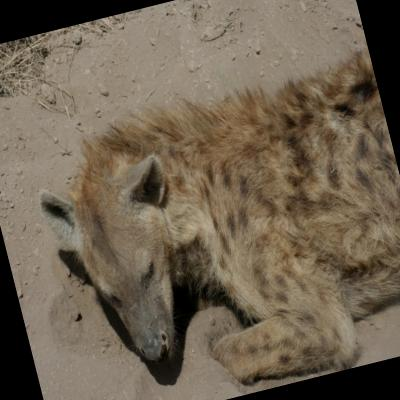hyenas: (0, 12, 400, 400)
